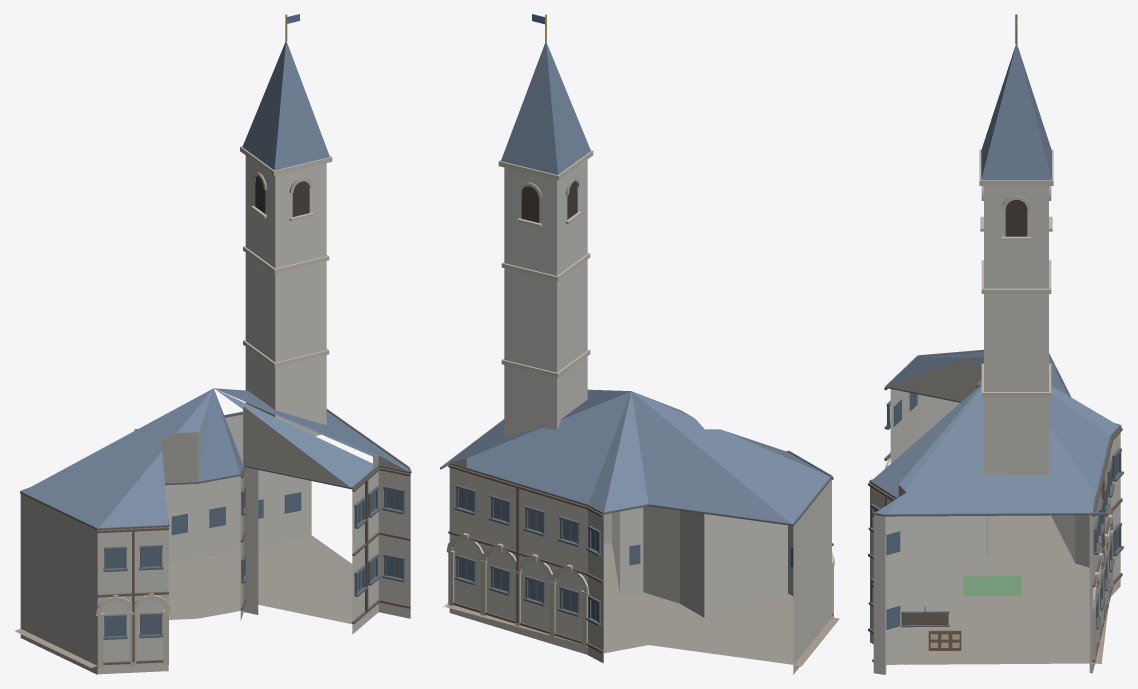
3 views of the same model, side by side, from view 1: azimuth 30°, elevation 25°; view 2: azimuth 150°, elevation 25°; view 3: azimuth 270°, elevation 25° (orthographic). The views are drawn at different scales.
Visible parts, largest first — view 1: B082_visible; view 2: B082_visible; view 3: B082_visible.
Boxes of the visible parts, x1=… form: B082_visible: x1=15, y1=14, x2=411, y2=674; B082_visible: x1=440, y1=14, x2=839, y2=674; B082_visible: x1=868, y1=14, x2=1123, y2=674.
Size of the model in its own units: 24.03 by 38.28 by 14.13.
